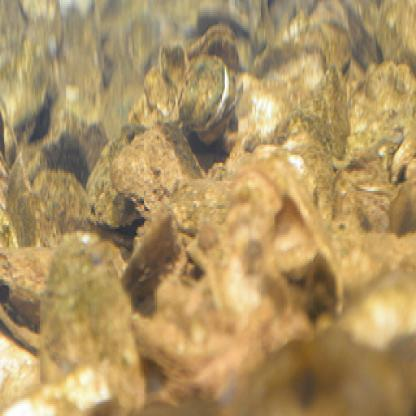Oyster- Indeterminate: (180, 50, 229, 135), (186, 25, 243, 75)
Oyster-Closed: (41, 234, 147, 416), (111, 129, 202, 213), (346, 66, 416, 165), (89, 118, 146, 232), (339, 279, 416, 354), (123, 206, 179, 299), (32, 173, 89, 251), (171, 177, 235, 232), (389, 174, 416, 232)
Oyster-Open: (0, 245, 55, 351)
